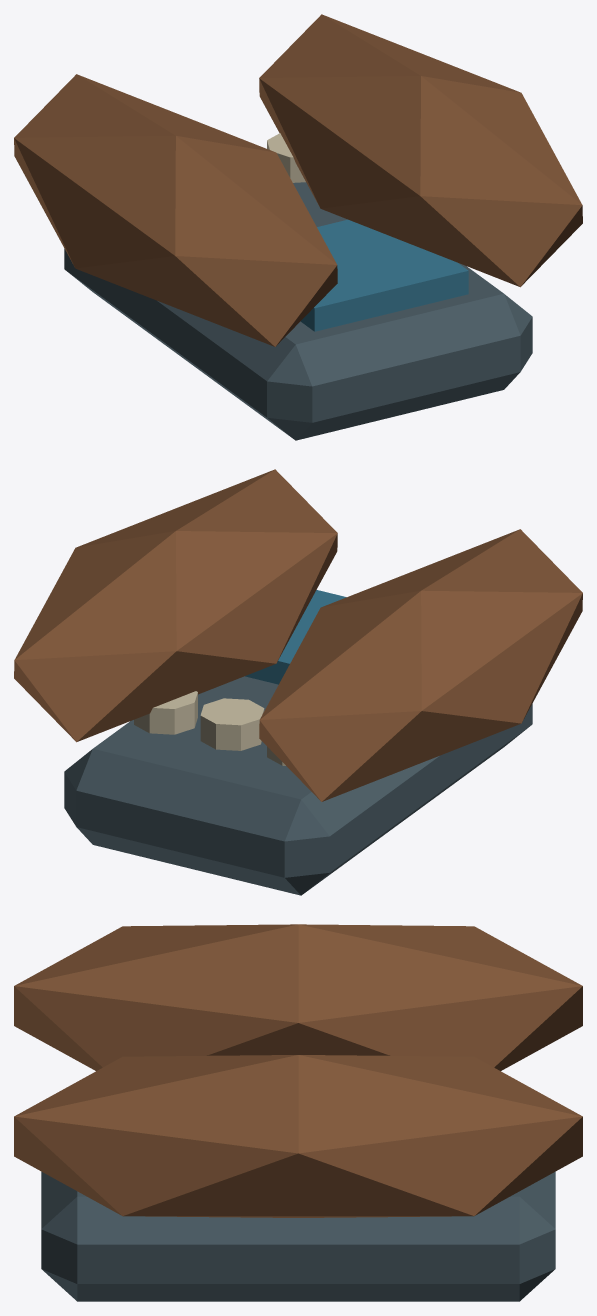
File: set_shoe_pair.glb
The picture shows the model from 3 angles, top to bottom: view 1: azimuth 30°, elevation 25°; view 2: azimuth 150°, elevation 25°; view 3: azimuth 270°, elevation 25°; orthographic projection. The views are drawn at different scales.
Parts seen in each view (by area): view 1: set_shoe_pair; view 2: set_shoe_pair; view 3: set_shoe_pair.
Boxes of the visible parts, left/top/right/bottom form: set_shoe_pair: left=14, top=14, right=582, bottom=440; set_shoe_pair: left=14, top=469, right=582, bottom=895; set_shoe_pair: left=14, top=924, right=582, bottom=1301.
Size of the model in its own units: 0.2184 by 0.11 by 0.2212.
